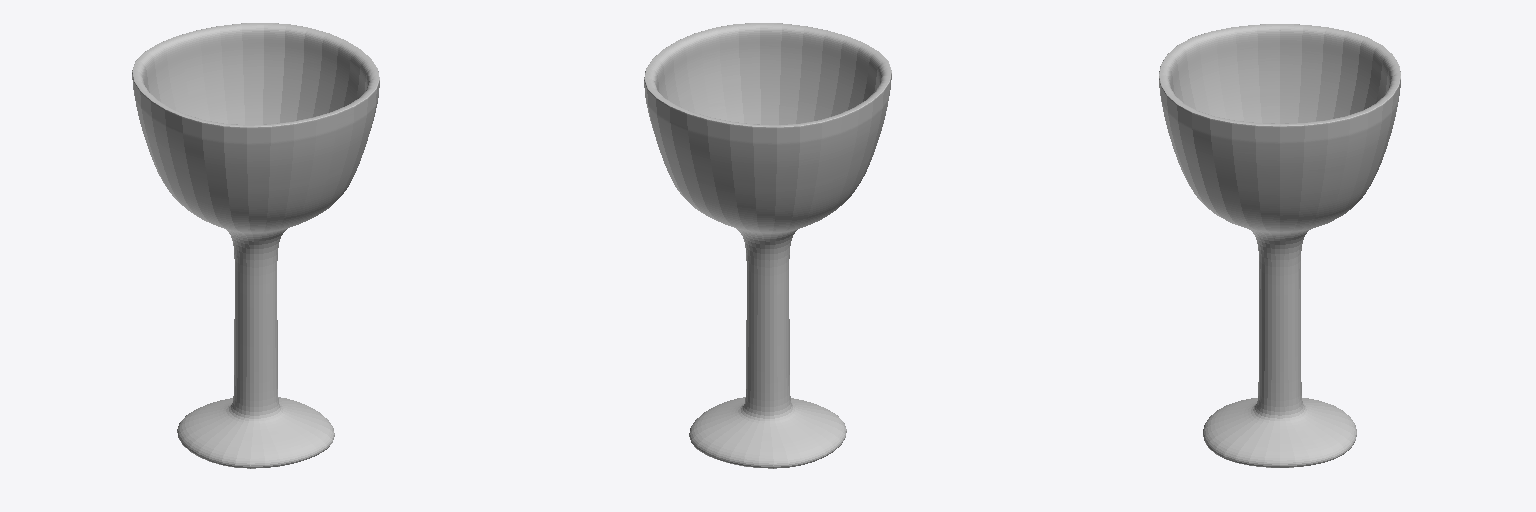
The model's file is goblet05.obj.
The picture shows the model from 3 angles: view 1: azimuth 30°, elevation 25°; view 2: azimuth 150°, elevation 25°; view 3: azimuth 270°, elevation 25°; orthographic projection.
Visible parts, largest first — view 1: goblet; view 2: goblet; view 3: goblet.
Part boxes in pixels (x1,y1,x2,y2): goblet: (132, 23, 379, 468); goblet: (644, 23, 891, 468); goblet: (1159, 24, 1400, 467).
Bounding box in the file's own units: 62.38 × 103 × 62.38.